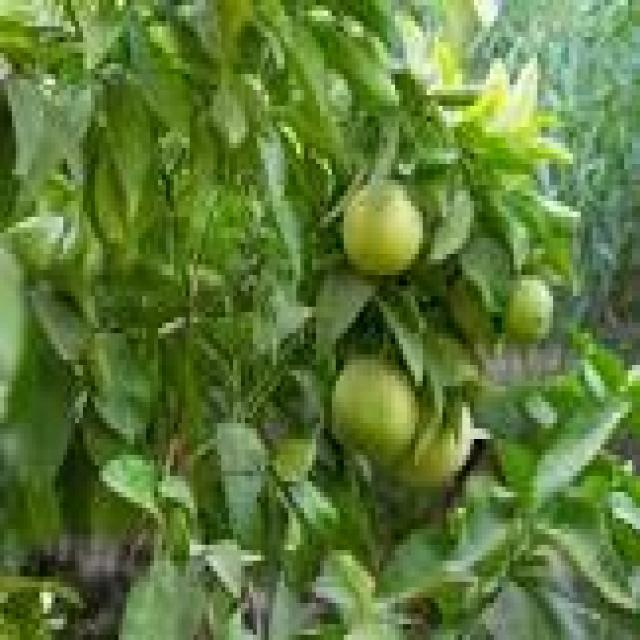orange: (332, 354, 415, 460), (344, 180, 419, 275), (506, 275, 549, 339)
